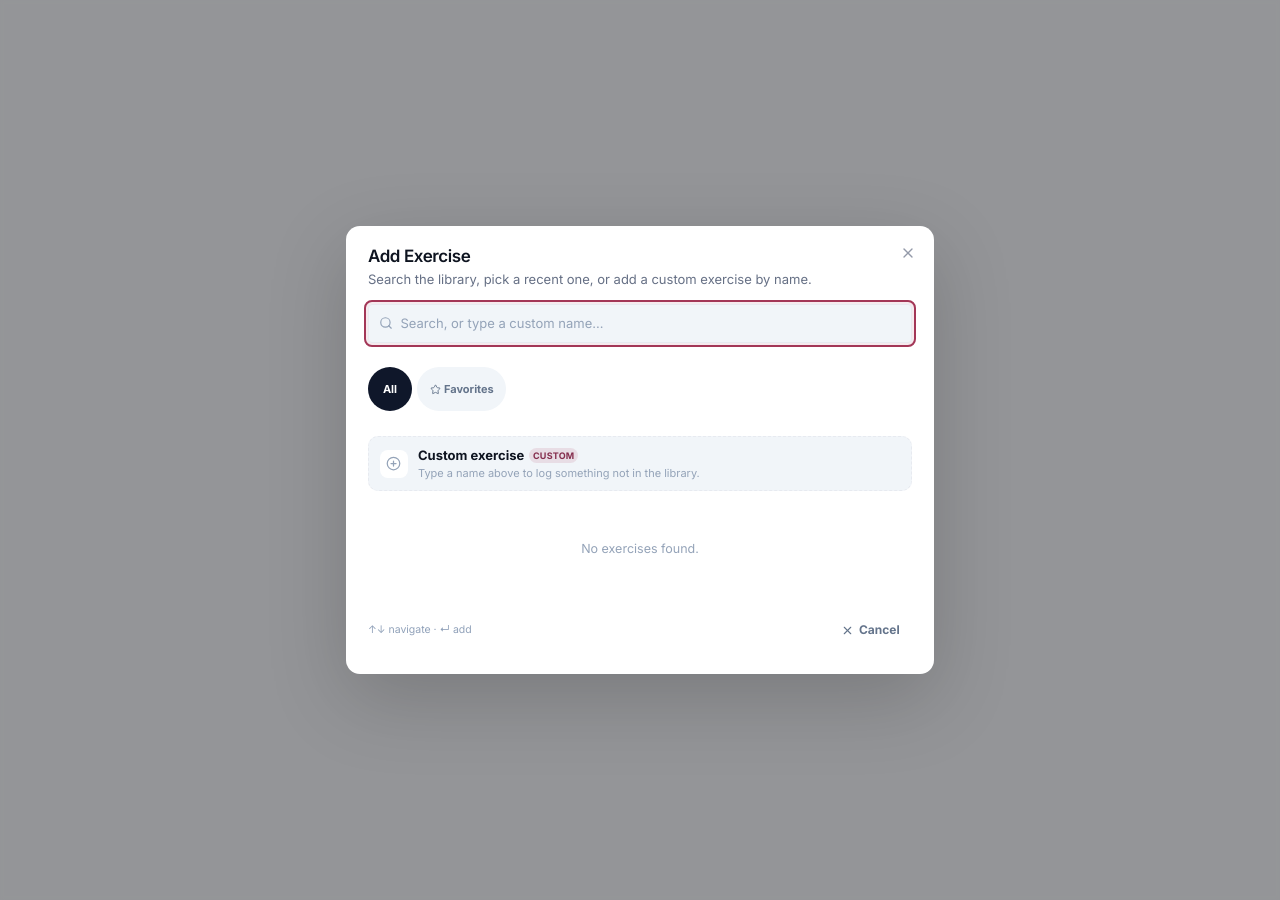
Test: Custom exercise › offers the typed name back verbatim
Type "Copenhagen plank" into the field named "Search exercises".
click(640, 323); type("Copenhagen plank")  # box [368,304,912,343]
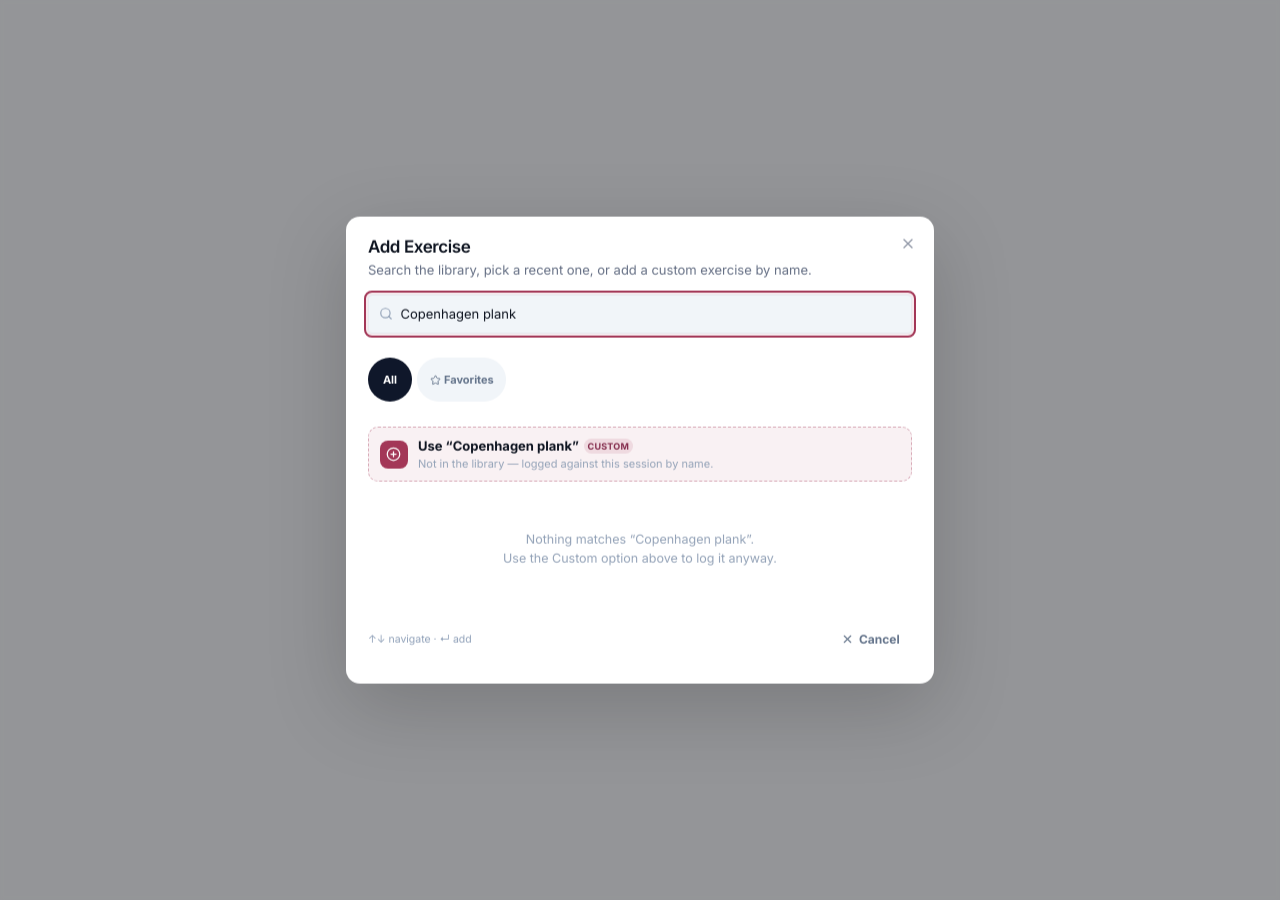
Expected: the button with test id "custom-exercise" shows "Copenhagen plank", [368,426,912,482]
